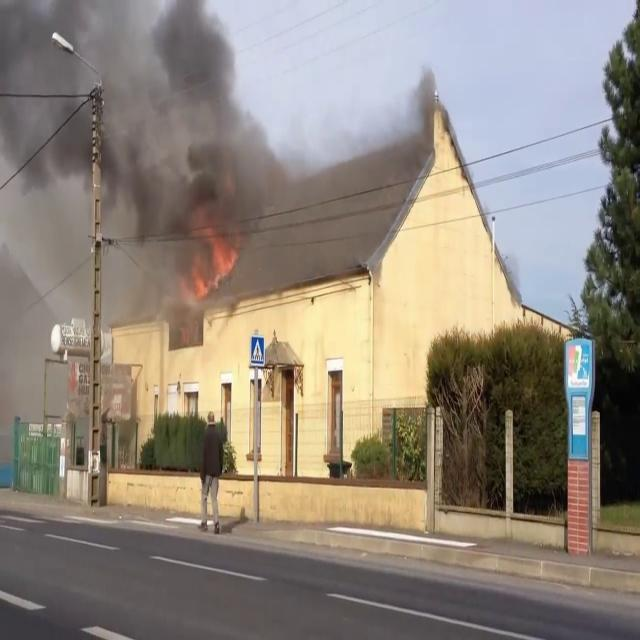Fire: (187, 230, 240, 298)
Smoke: (0, 0, 293, 286)
